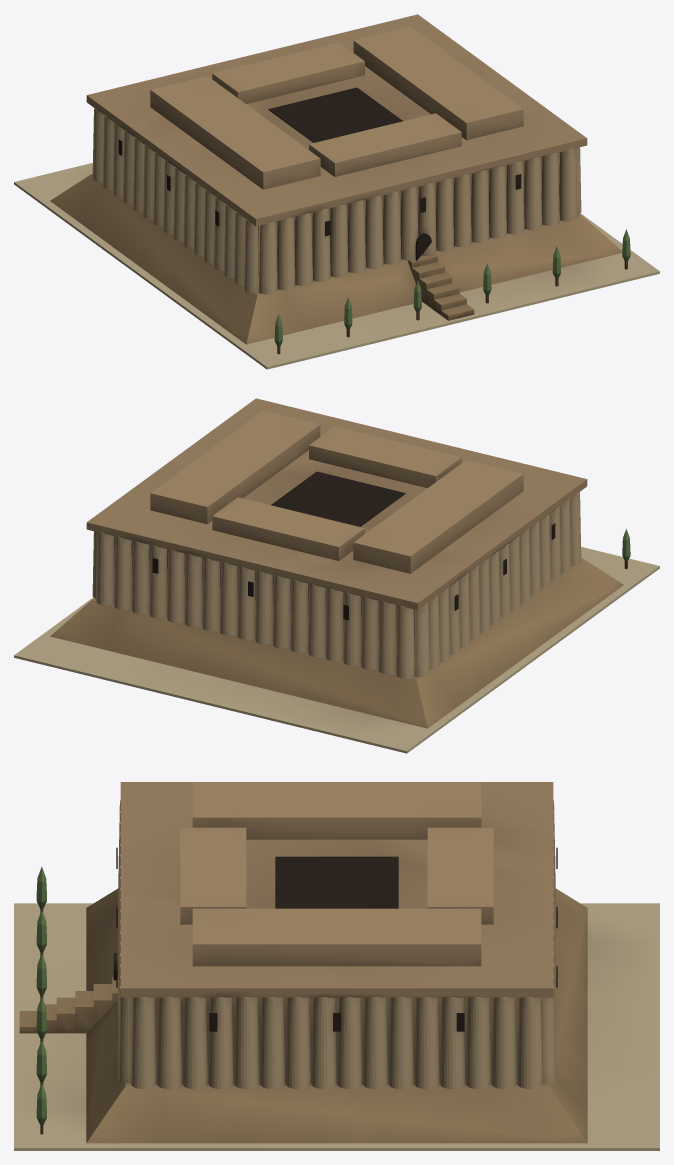
Rendered from great-kyz-kala.glb.
3 views of the same model, one above another, from view 1: azimuth 30°, elevation 25°; view 2: azimuth 150°, elevation 25°; view 3: azimuth 270°, elevation 25° (orthographic). The views are drawn at different scales.
Parts seen in each view (by area): view 1: p1_corrugated walls, p0_plinth; view 2: p1_corrugated walls, p0_plinth; view 3: p1_corrugated walls, p0_plinth.
Part boxes in pixels (x1=…): p1_corrugated walls: x1=86, y1=14, x2=587, y2=320; p0_plinth: x1=14, y1=163, x2=659, y2=369; p1_corrugated walls: x1=86, y1=398, x2=587, y2=678; p0_plinth: x1=14, y1=529, x2=659, y2=753; p1_corrugated walls: x1=19, y1=782, x2=557, y2=1089; p0_plinth: x1=14, y1=866, x2=659, y2=1150.
Size of the model in its own units: 52 by 16.4 by 58.
